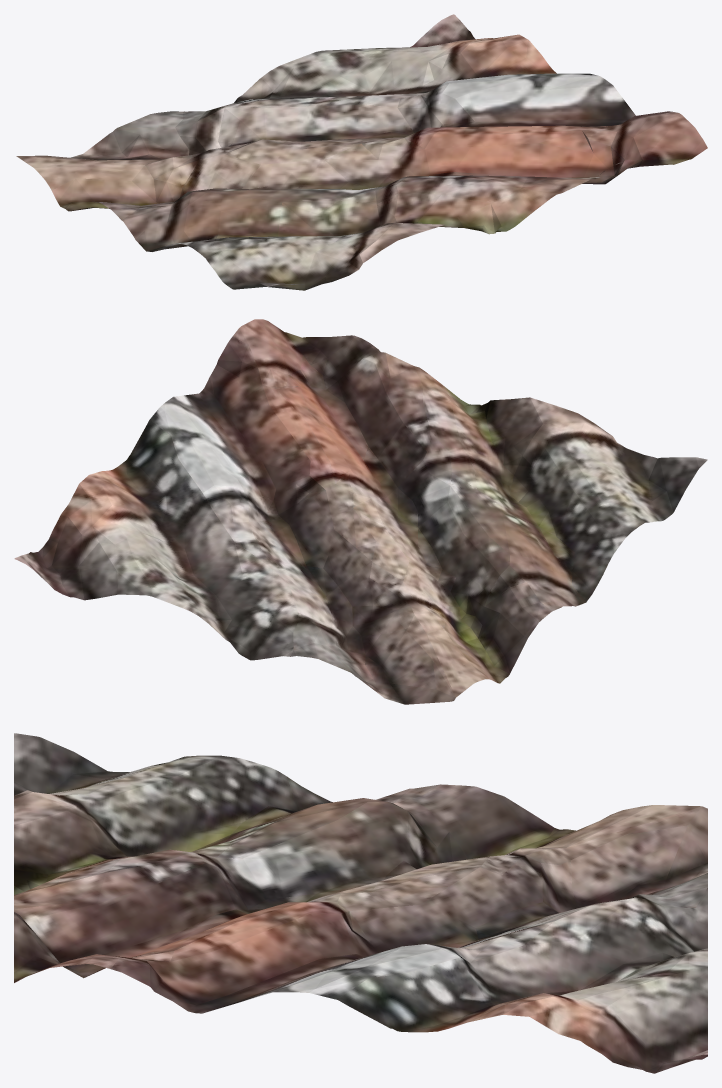
The picture shows the model from 3 angles, top to bottom: view 1: azimuth 30°, elevation 25°; view 2: azimuth 150°, elevation 25°; view 3: azimuth 270°, elevation 25°; orthographic projection. The views are drawn at different scales.
Bounding box in the file's own units: 0.8373 × 0.2138 × 0.8374.
Materials: 3 (3 with a texture image).
